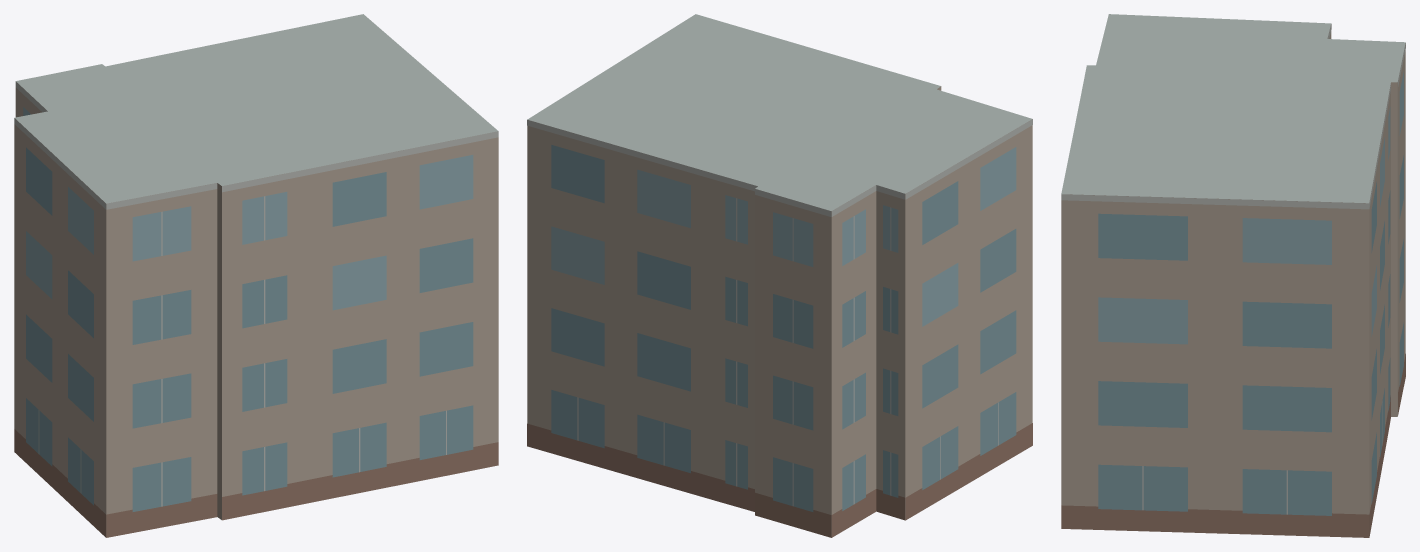
File: survey-upis-32990787.glb
The picture shows the model from 3 angles, left to right: view 1: azimuth 30°, elevation 25°; view 2: azimuth 150°, elevation 25°; view 3: azimuth 270°, elevation 25°; orthographic projection. The views are drawn at different scales.
Visible parts, largest first — view 1: survey-upis-32990787.tmp; view 2: survey-upis-32990787.tmp; view 3: survey-upis-32990787.tmp.
Part boxes in pixels (x1=…): survey-upis-32990787.tmp: x1=14, y1=14, x2=498, y2=537; survey-upis-32990787.tmp: x1=527, y1=14, x2=1032, y2=537; survey-upis-32990787.tmp: x1=1061, y1=14, x2=1405, y2=537.
Size of the model in its own units: 16.08 by 13.25 by 12.37.
